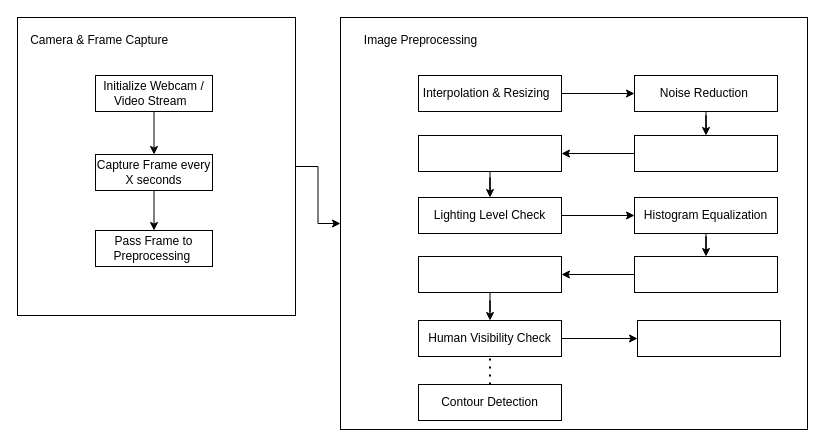
Image size: 825x447. Some labels were removed from this diagram. Each missing label, with the centre of its shape:
"Blur Check (Laplacian Variance)" goes at [706,153].
"Edge Detection" goes at [706,274].
"Light Check (mean brightness)" goes at [490,153].
"Morphological Operations" goes at [490,274].
"Send to Human Presence Detection" goes at [708,338].
